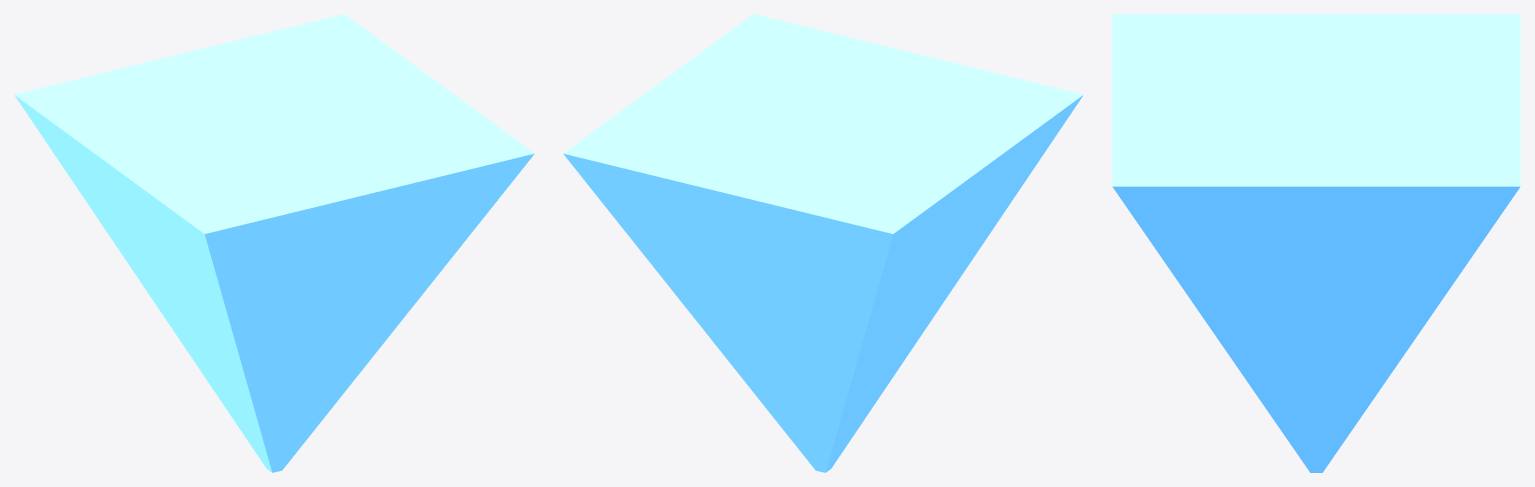
The picture shows the model from 3 angles, left to right: view 1: azimuth 30°, elevation 25°; view 2: azimuth 150°, elevation 25°; view 3: azimuth 270°, elevation 25°; orthographic projection. The views are drawn at different scales.
Visible parts, largest first — view 1: Cube; view 2: Cube; view 3: Cube.
Part boxes in pixels (bbox=[...]): Cube: bbox=[14, 14, 534, 472]; Cube: bbox=[563, 14, 1083, 472]; Cube: bbox=[1112, 14, 1520, 472].
Bounding box in the file's own units: 2 × 2 × 2.
